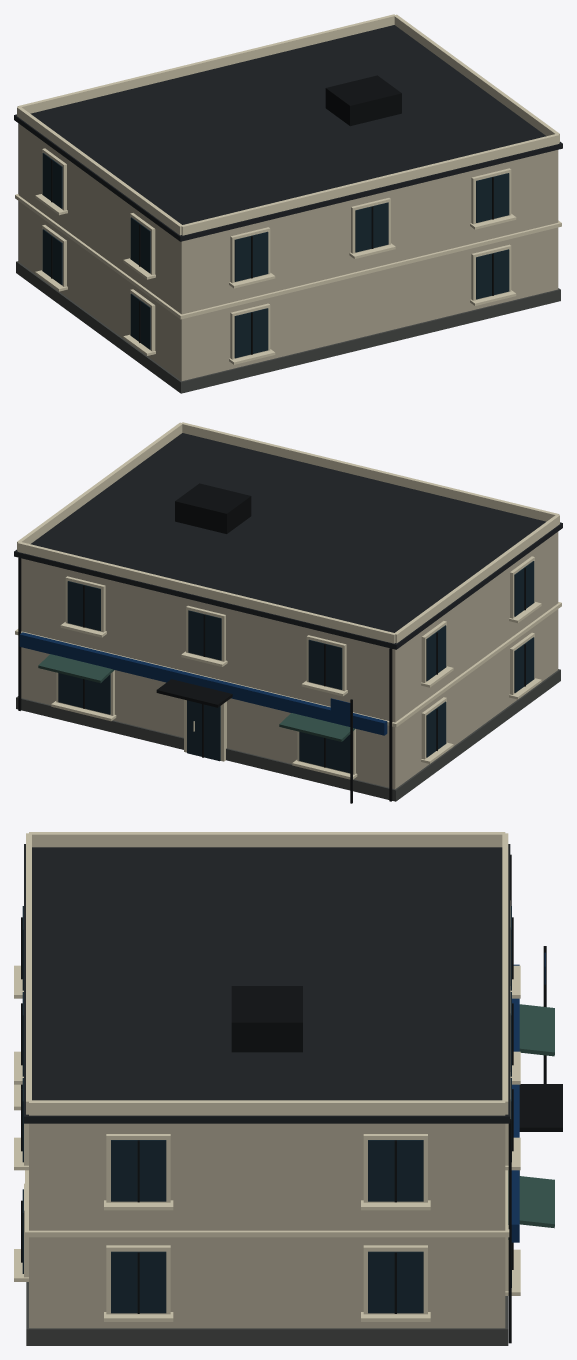
File: 12_PoliceStation.obj
3 views of the same model, one above another, from view 1: azimuth 30°, elevation 25°; view 2: azimuth 150°, elevation 25°; view 3: azimuth 270°, elevation 25° (orthographic). The views are drawn at different scales.
Visible parts, largest first — view 1: Plaster, Roof, Trim, Glass, Base, Metal; view 2: Roof, Plaster, Trim, Glass, Metal, Base, PoliceBlue, Awning; view 3: Roof, Plaster, Trim, Glass, Metal, Base, Awning, PoliceBlue.
Boxes of the visible parts, <box> form: Plaster: <box>18,124,558,380</box>; Roof: <box>14,25,562,241</box>; Trim: <box>15,14,561,364</box>; Glass: <box>42,153,509,358</box>; Base: <box>16,261,560,393</box>; Metal: <box>18,75,493,354</box>; Roof: <box>14,433,562,649</box>; Plaster: <box>21,532,558,788</box>; Trim: <box>15,422,561,779</box>; Glass: <box>58,561,534,773</box>; Metal: <box>18,483,525,803</box>; Base: <box>16,669,560,801</box>; PoliceBlue: <box>19,632,387,735</box>; Awning: <box>38,654,355,741</box>; Roof: <box>24,844,510,1123</box>; Plaster: <box>29,1123,505,1328</box>; Trim: <box>14,832,520,1321</box>; Glass: <box>22,906,511,1313</box>; Metal: <box>21,854,562,1343</box>; Base: <box>26,1282,508,1345</box>; Awning: <box>508,1004,554,1239</box>; PoliceBlue: <box>511,952,545,1242</box>.
Size of the model in its own units: 16.76 by 7.22 by 13.83.
